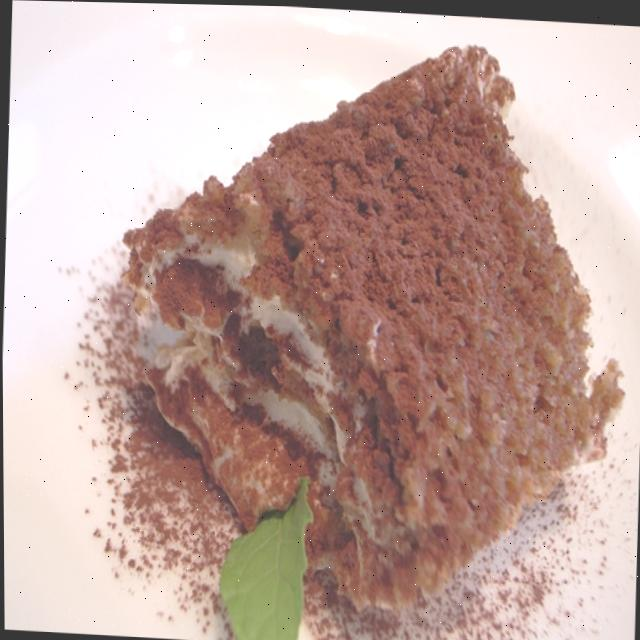蛋糕甜品: (14, 14, 640, 640)
